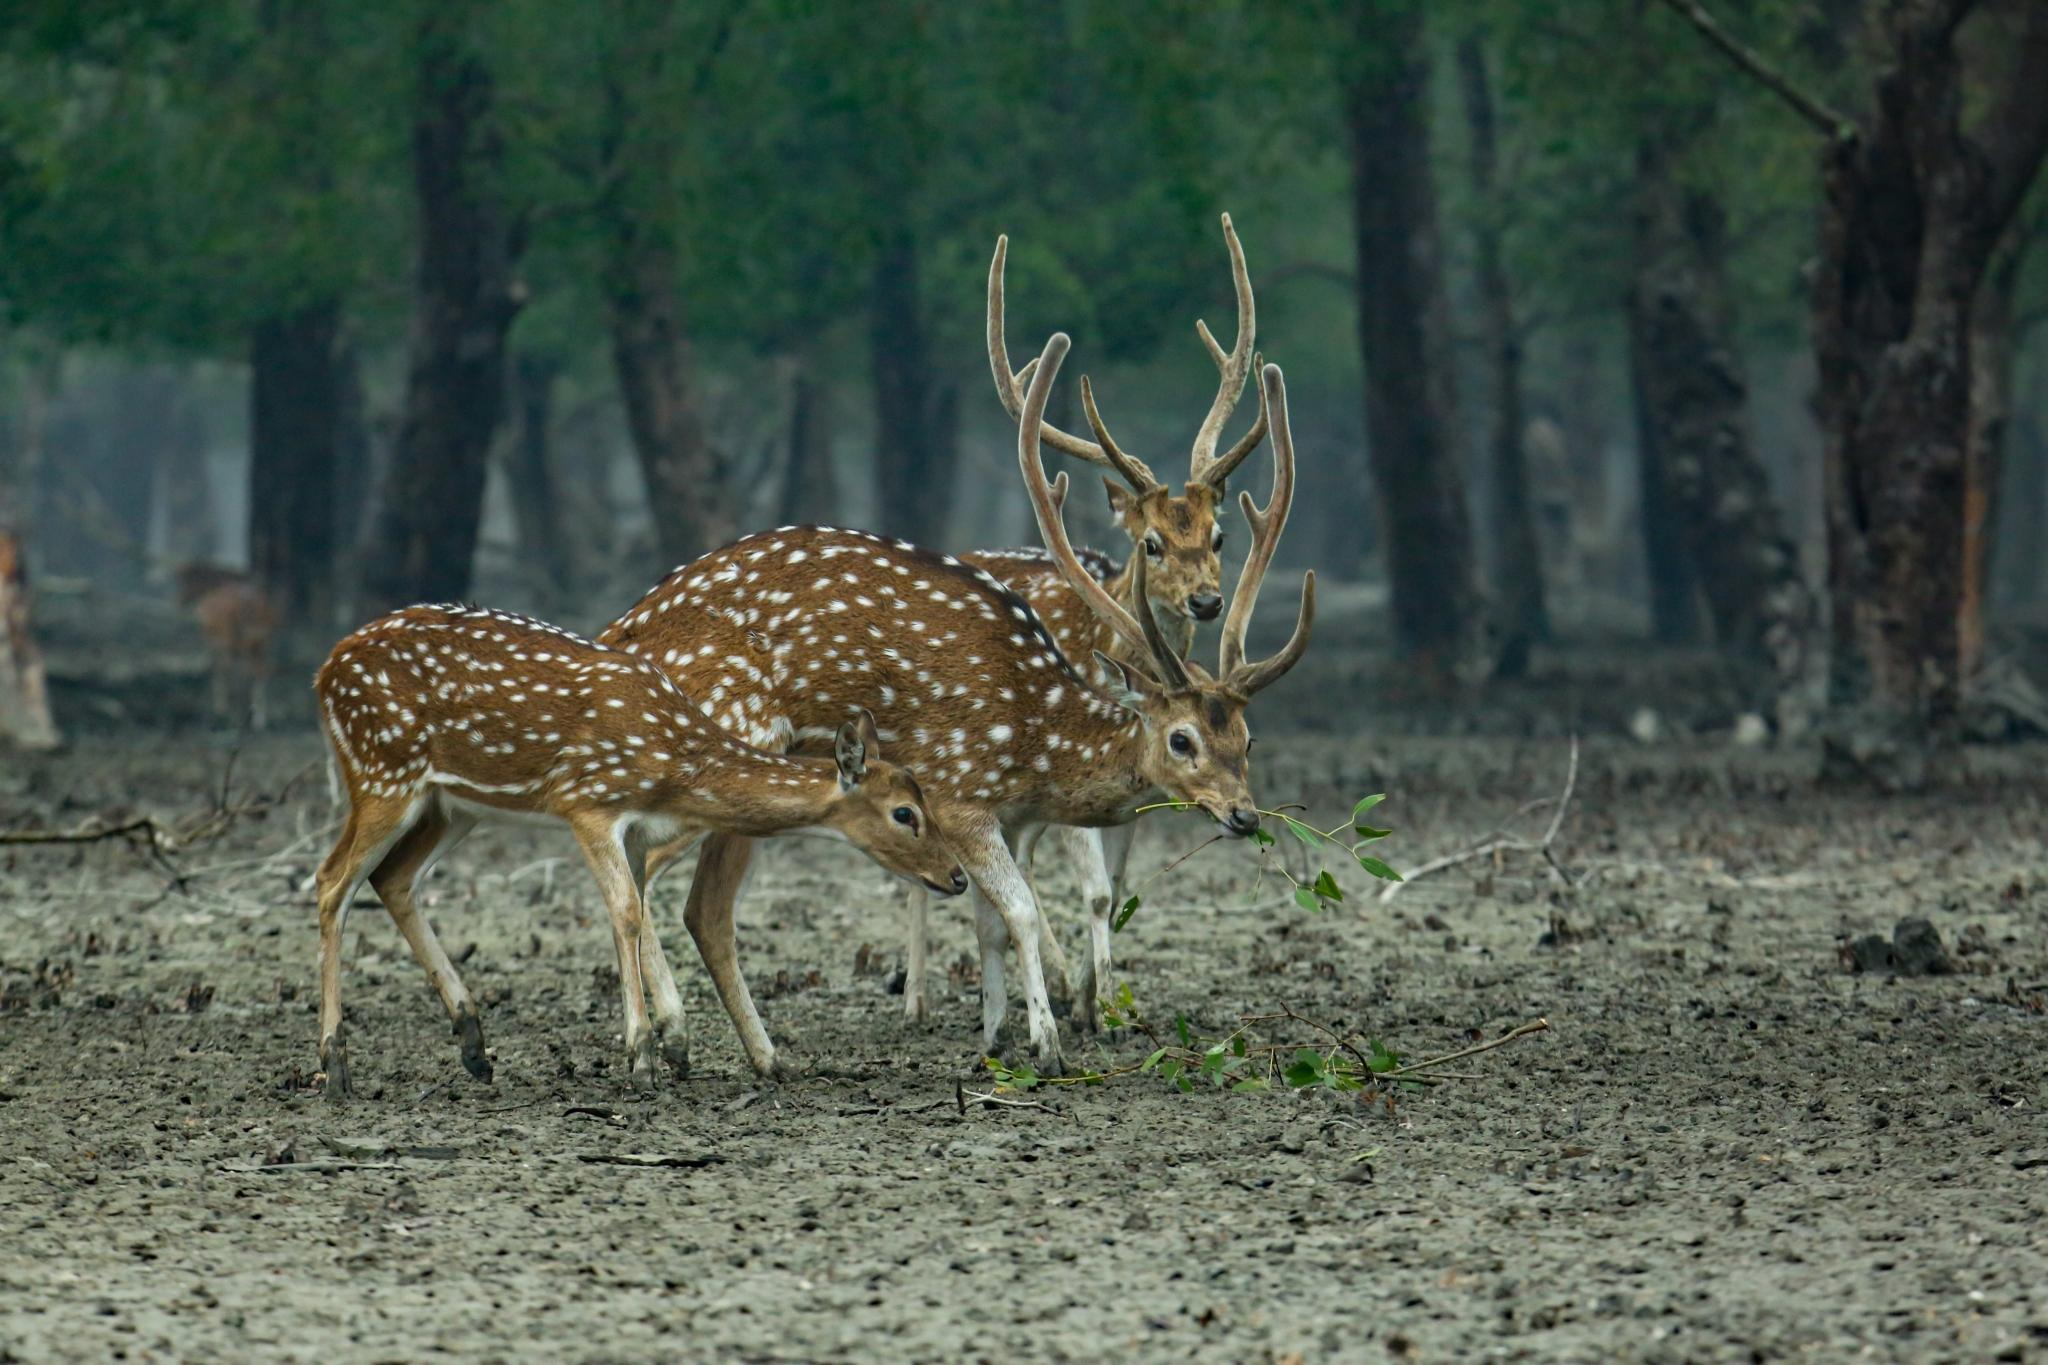Deer: (600, 332, 1314, 1056), (315, 605, 959, 1092), (1040, 215, 1265, 658)
